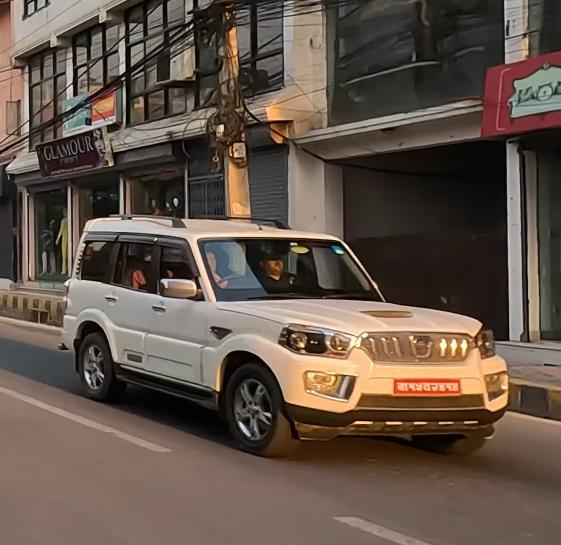SUV: (64, 205, 511, 467)
